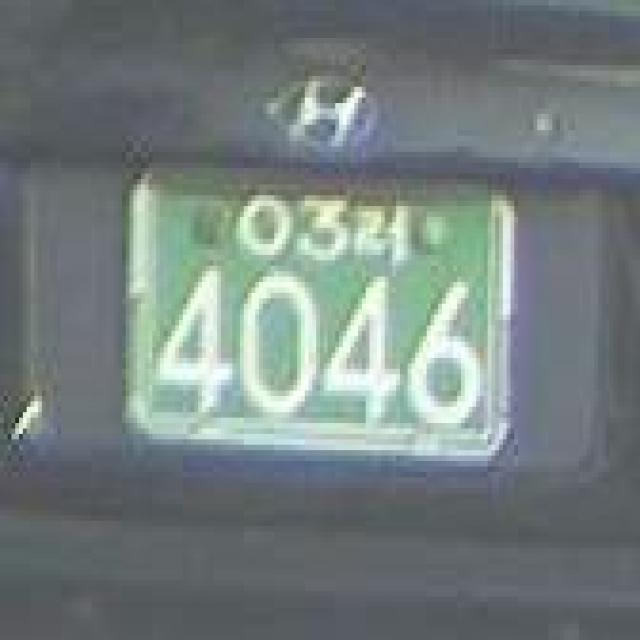illegal_plate: (118, 152, 522, 484)
